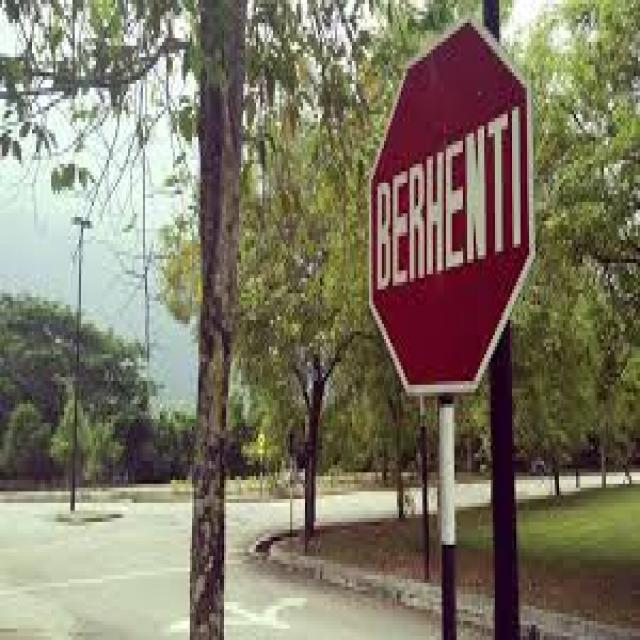stop-sign: (365, 25, 582, 401)
